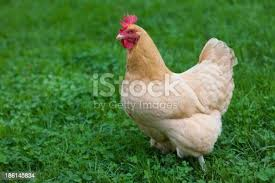buff: (107, 14, 219, 135)
